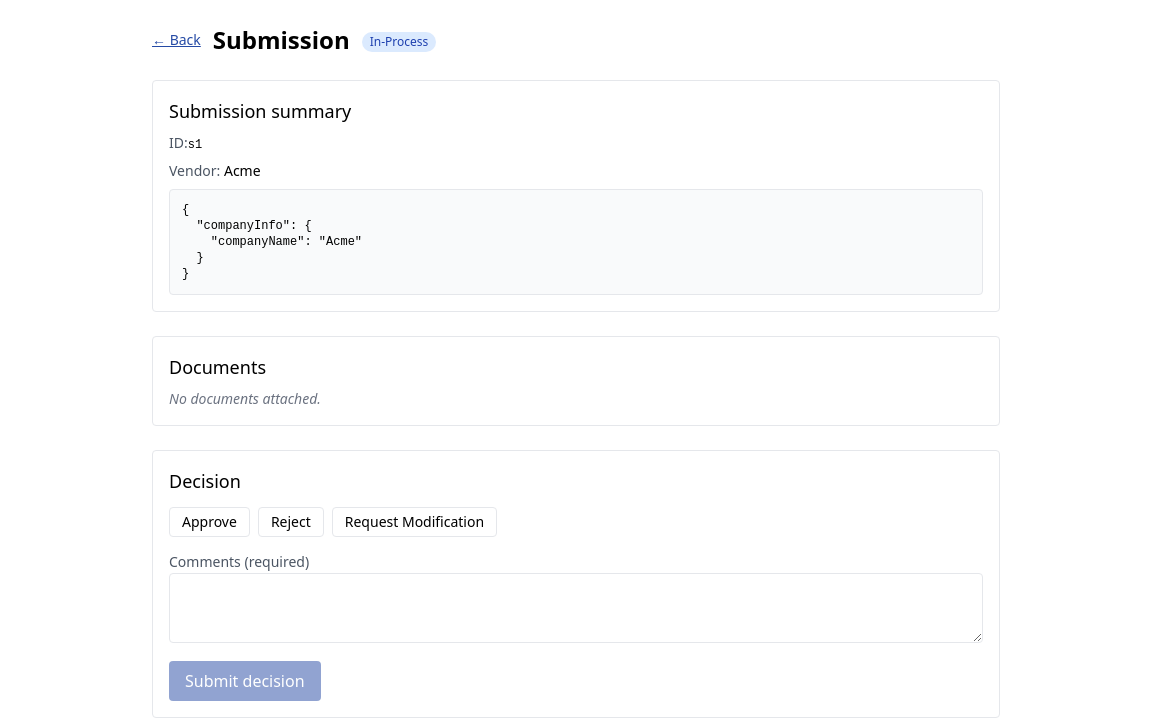
Test: CheckerSubmissionDetailComponent › clicking submit POSTs the decision and shows success
The image size is (1152, 720).
Click the button with test id "action-reject" at (291, 522), box [258, 507, 324, 537]
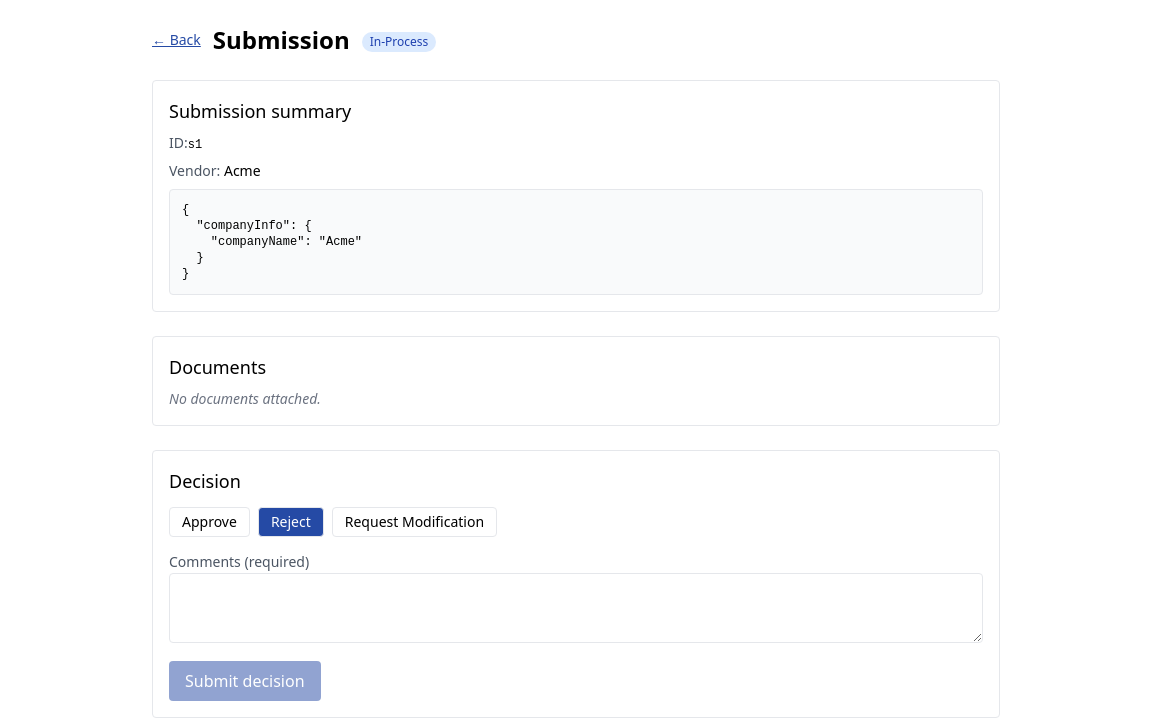
Type "incomplete" into the text box with test id "comments-input" at (576, 608), box [169, 573, 983, 643]
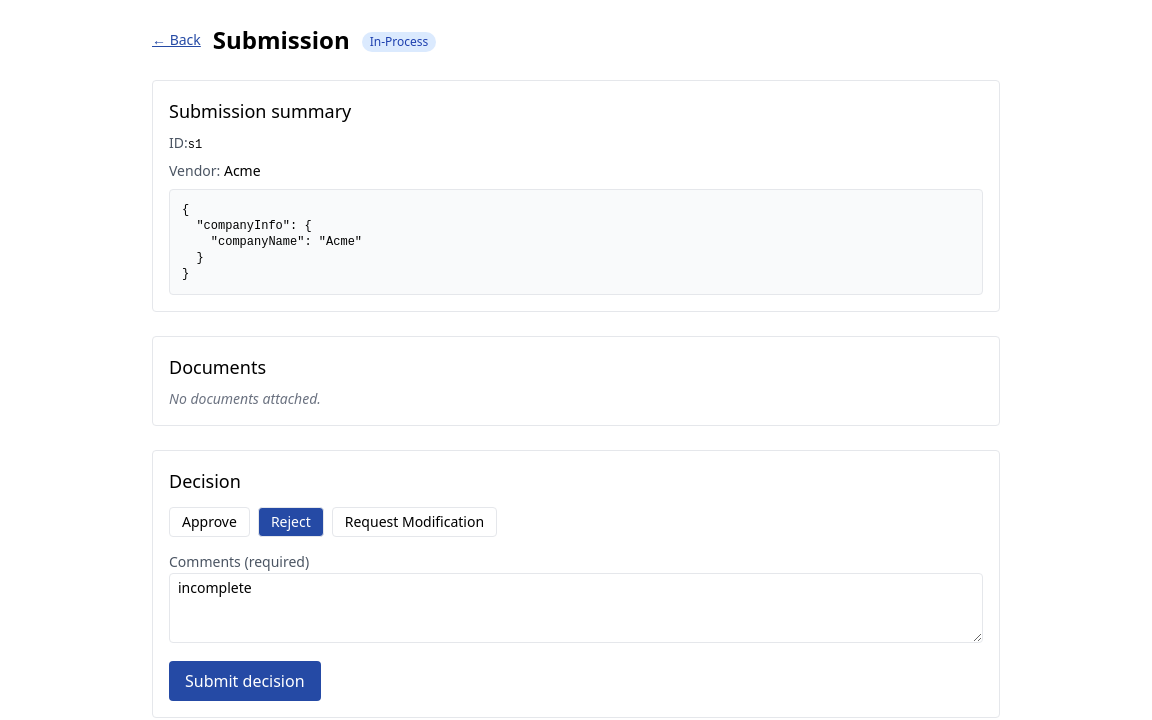
Click the button with test id "submit-decision-btn" at (245, 681), box [169, 661, 321, 701]
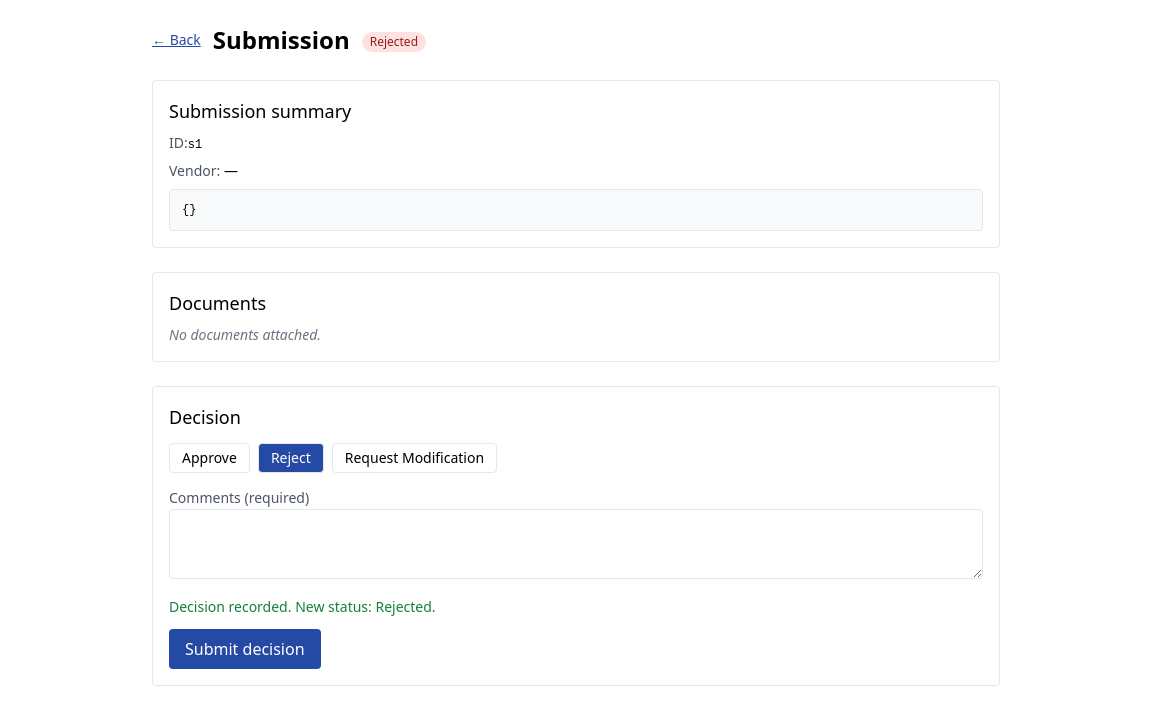
Expected: the text "Decision recorded. New status: Rejected." is shown, [169, 597, 436, 616]
